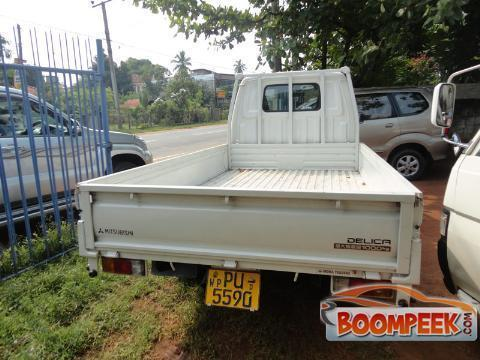license-plate: (207, 267, 259, 309)
